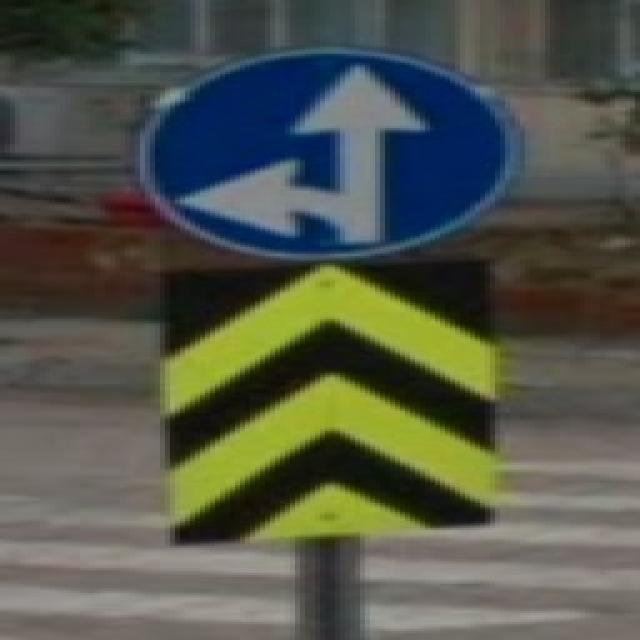Straight or Left: (141, 52, 511, 261)
